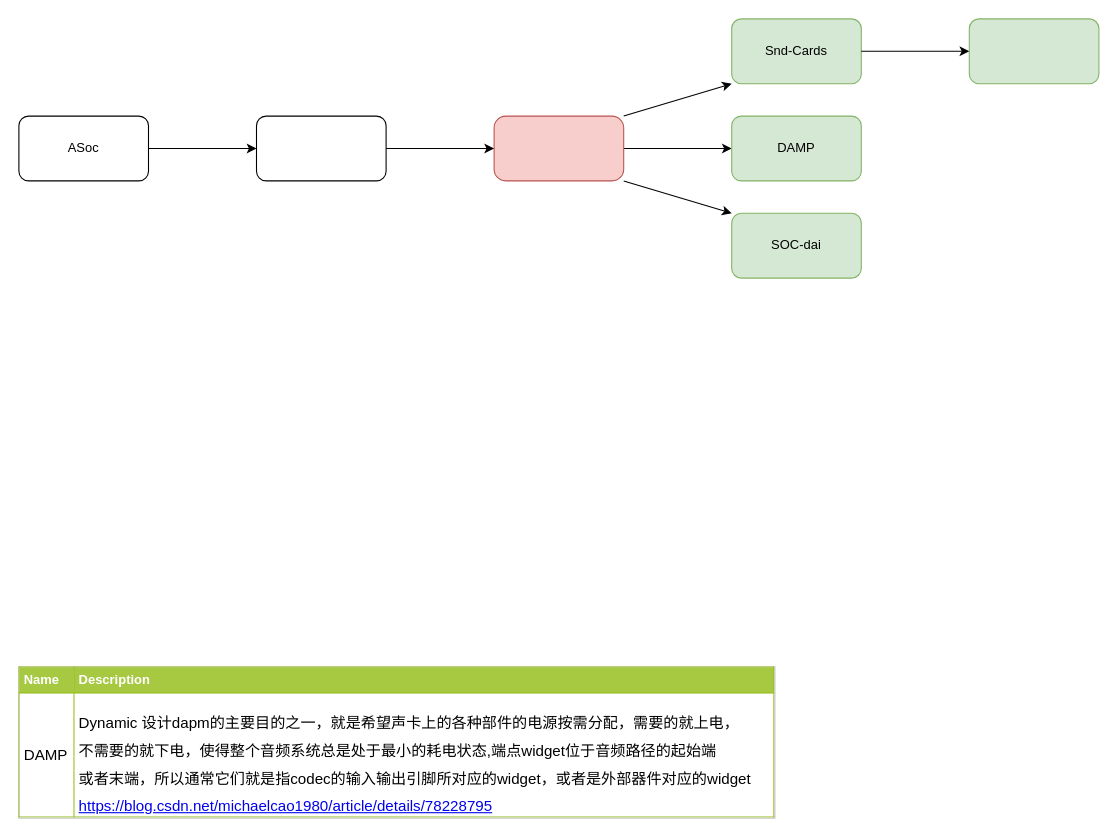
This 1118x837 diagram has some shape labels left out. Each missing label, with the box of its shape:
PCM: (968, 18, 1099, 84)
Platform Driver: (255, 115, 386, 181)
Snd-Card: (493, 115, 624, 181)
